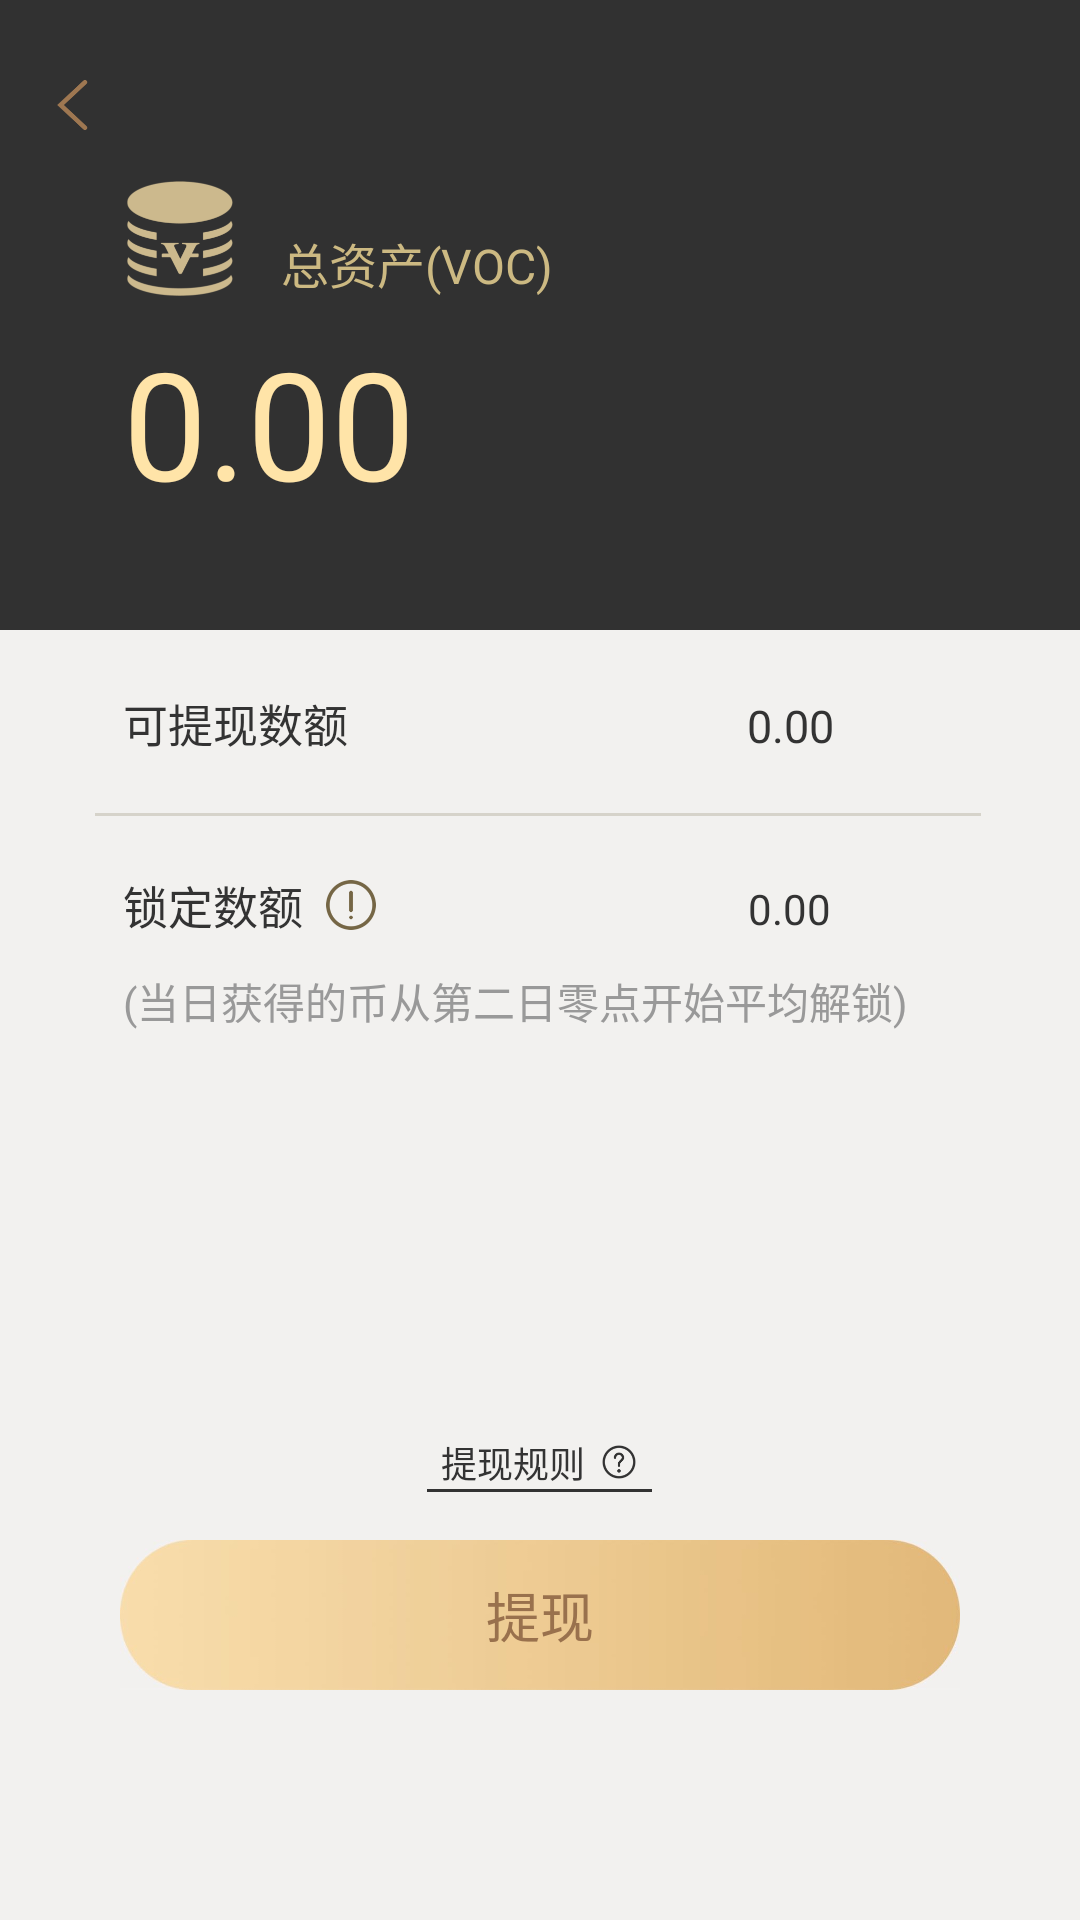

Icon bounding boxes for this 1080×1920 phone screenshot, format box=[x1, y1, x2, y2]:
zichan: box=[127, 181, 233, 296]
